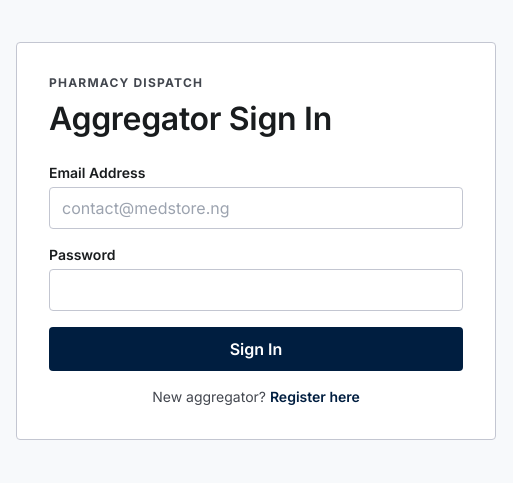
it: AggregatorLoginPage › shows "Invalid email or password" on ApiError
The width and height of the screenshot is (513, 483).
Step 1. Type "user@test.com" into the field labelled "Email Address" → (256, 208), box [49,187,463,229]
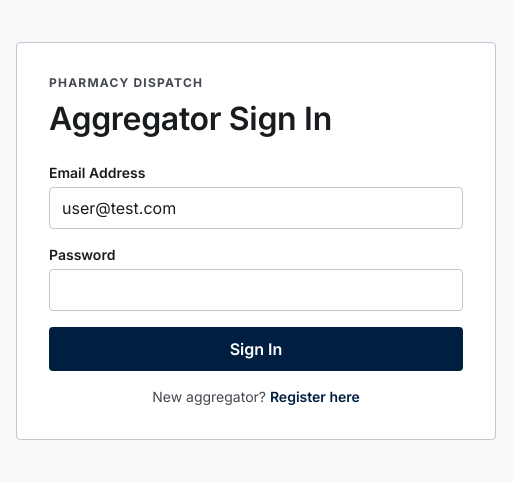
Step 2. Type "wrongpass" into the password field labelled "Password" → (256, 290), box [49,269,463,311]
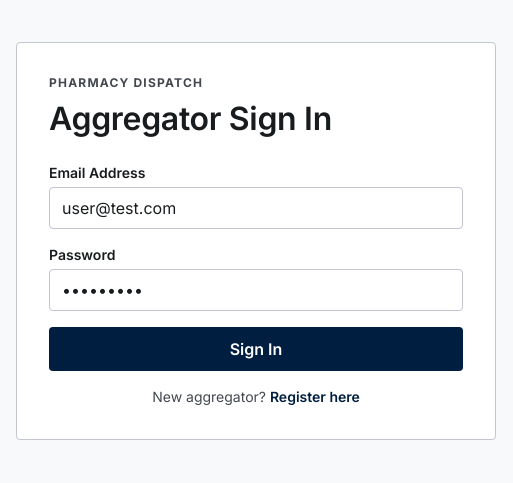
Step 3. Click the button "Sign In" → (256, 349), box [49,327,463,371]
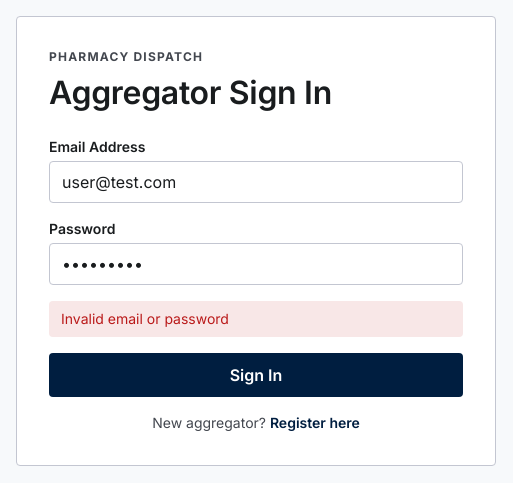
Expected: the message reads "Invalid email or password", [61,310,229,327]
